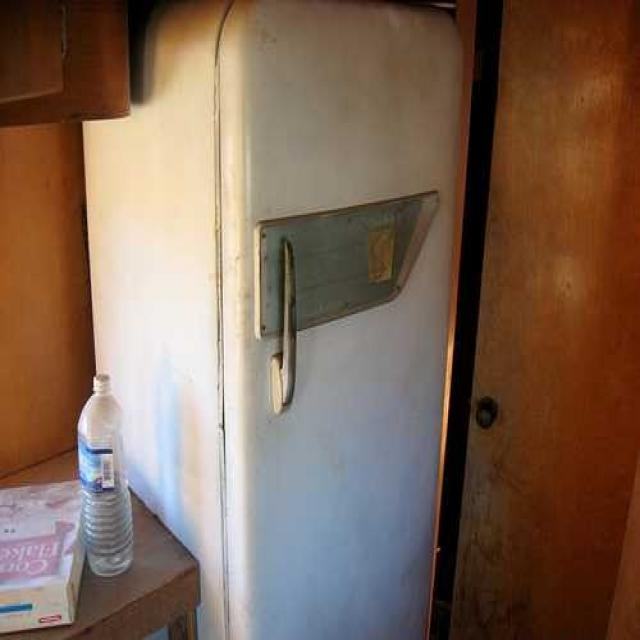refrigerator: (214, 0, 462, 640)
